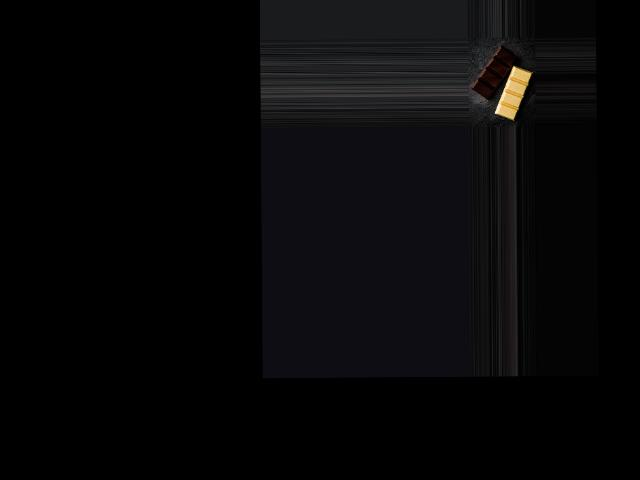chocolate: (472, 45, 532, 124)
